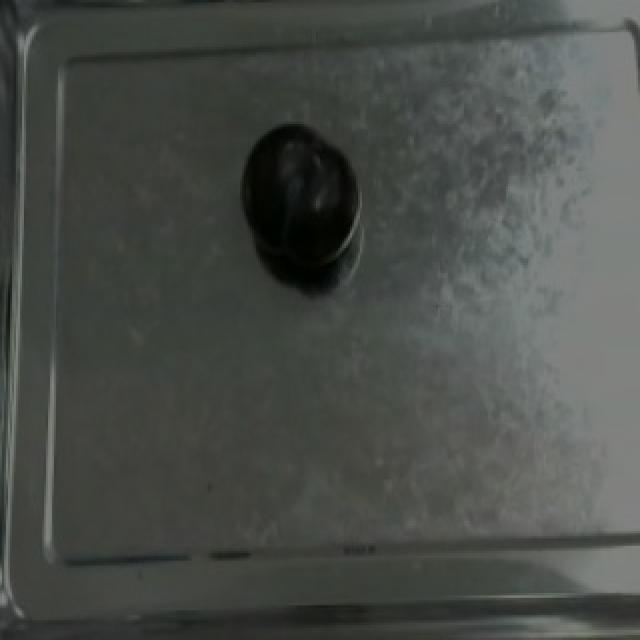Fruit: (236, 121, 358, 282)
